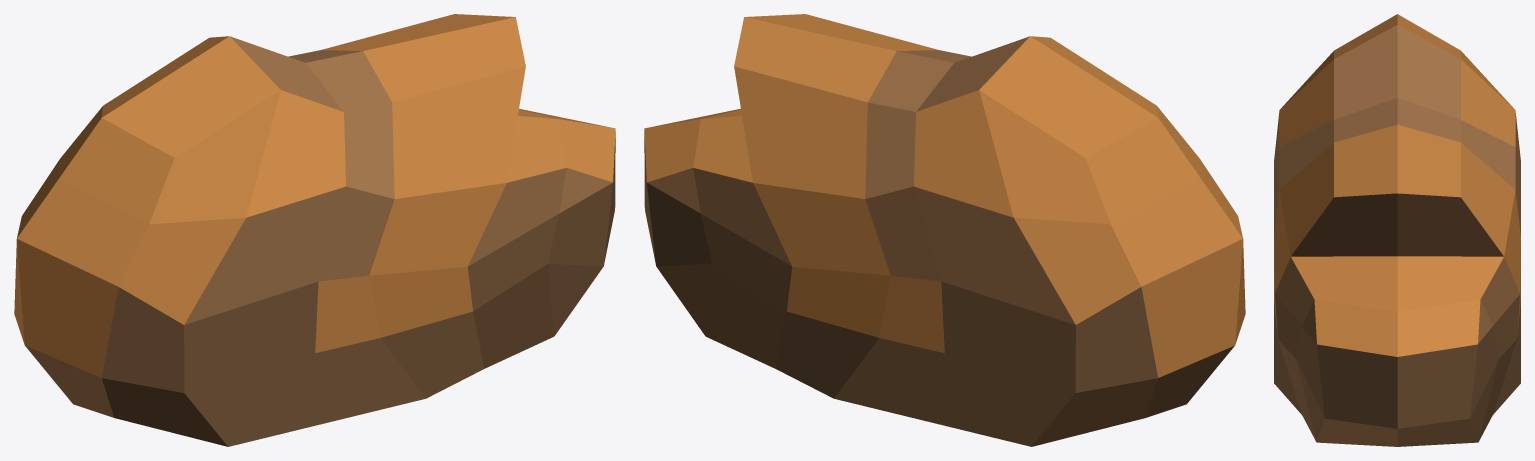
Rendered from Clay_Stone.fbx.
3 views of the same model, side by side, from view 1: azimuth 30°, elevation 25°; view 2: azimuth 150°, elevation 25°; view 3: azimuth 270°, elevation 25° (orthographic). The views are drawn at different scales.
Parts seen in each view (by area): view 1: Cube.018; view 2: Cube.018; view 3: Cube.018.
Part boxes in pixels (x1=…): Cube.018: x1=14, y1=14, x2=615, y2=446; Cube.018: x1=644, y1=14, x2=1245, y2=446; Cube.018: x1=1274, y1=14, x2=1520, y2=446.
Bounding box in the file's own units: 1.26 × 0.6863 × 0.5055.
